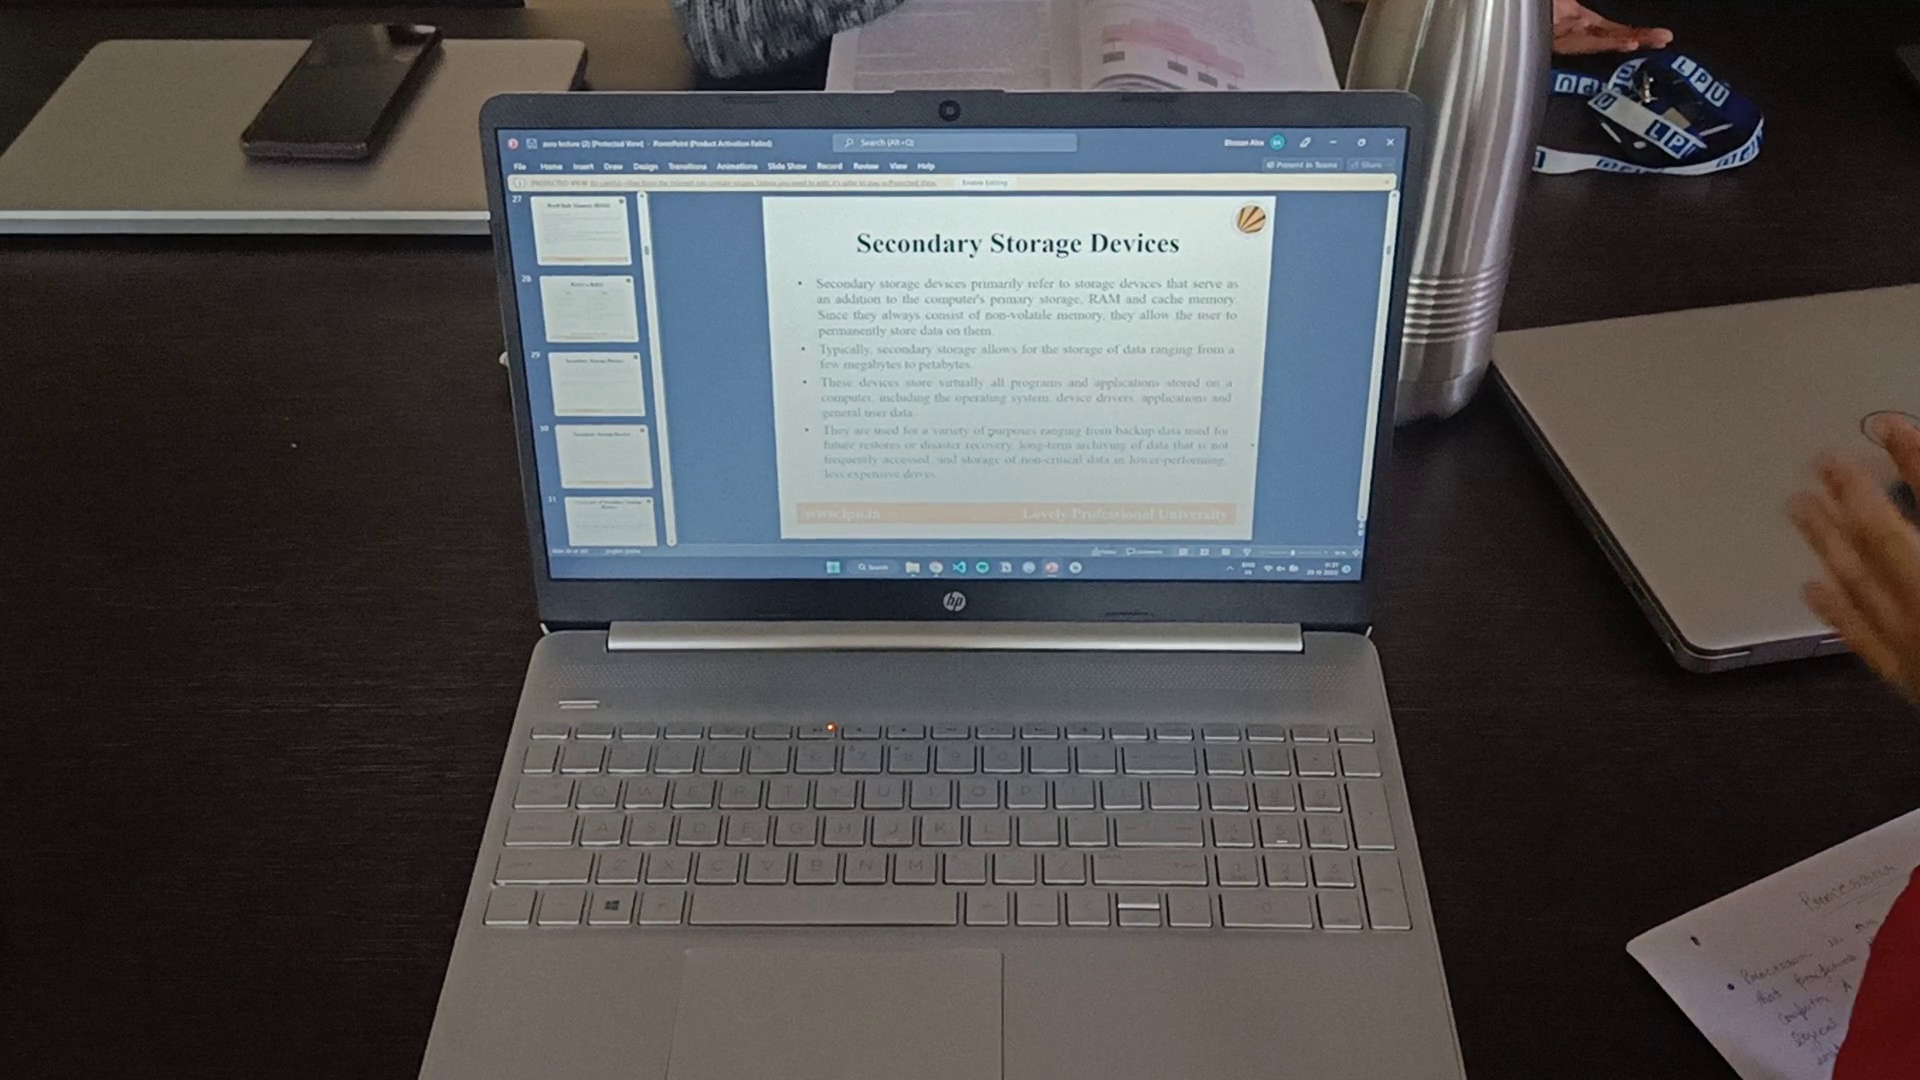laptop: (452, 86, 1493, 1080), (7, 32, 489, 244)
